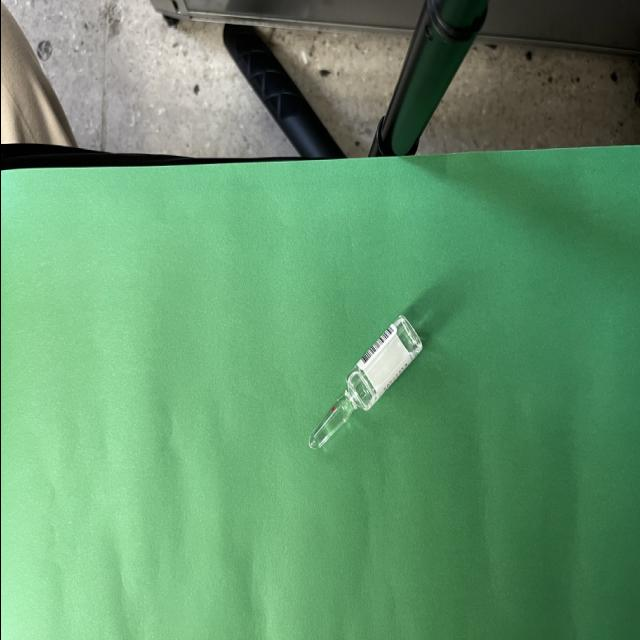Ampoules: (308, 315, 422, 448)
